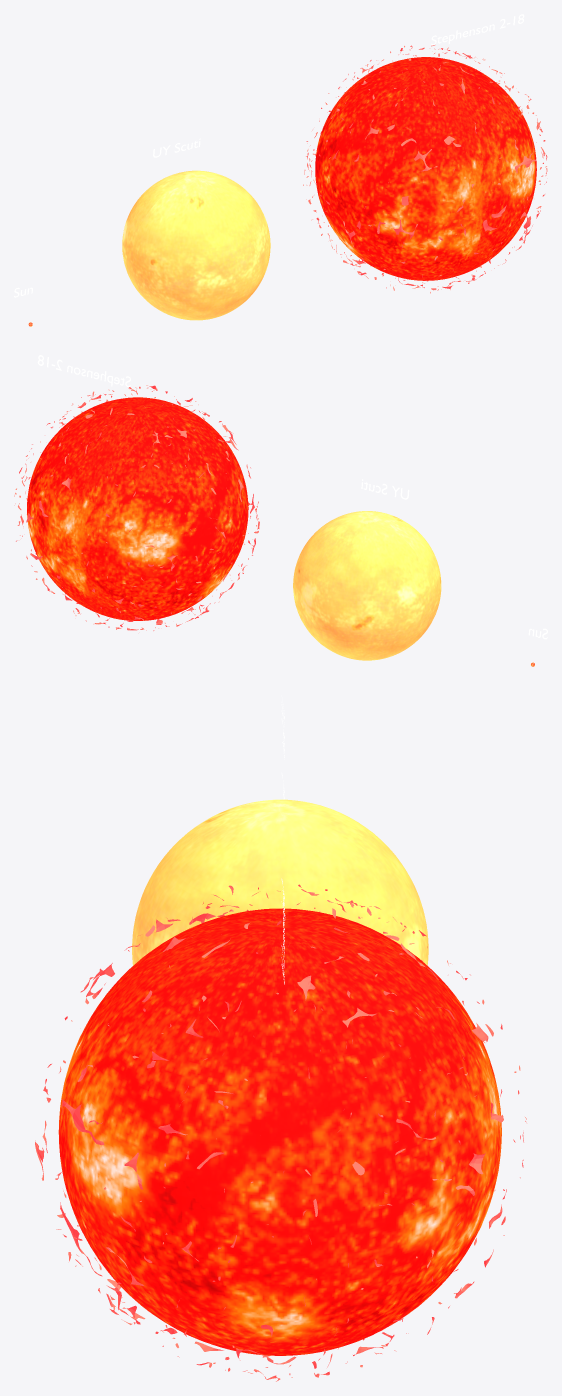
The picture shows the model from 3 angles, top to bottom: view 1: azimuth 30°, elevation 25°; view 2: azimuth 150°, elevation 25°; view 3: azimuth 270°, elevation 25°; orthographic projection. The views are drawn at different scales.
Visible parts, largest first — view 1: Stephenson 2-18.001, Uy Scuti, stephenson effect, TEXT STEPHENSON; view 2: Stephenson 2-18.001, Uy Scuti, stephenson effect, TEXT STEPHENSON; view 3: Stephenson 2-18.001, Uy Scuti, stephenson effect.
Boxes of the visible parts, x1,y1,x2,y2 form: Stephenson 2-18.001: [315, 57, 536, 280]; Uy Scuti: [122, 170, 270, 320]; stephenson effect: [303, 45, 547, 293]; TEXT STEPHENSON: [431, 14, 524, 45]; Stephenson 2-18.001: [27, 397, 248, 620]; Uy Scuti: [293, 511, 441, 660]; stephenson effect: [14, 385, 259, 630]; TEXT STEPHENSON: [37, 355, 130, 386]; Stephenson 2-18.001: [58, 908, 501, 1355]; Uy Scuti: [132, 799, 428, 965]; stephenson effect: [35, 884, 526, 1381].
Size of the model in its own units: 215 by 95.81 by 88.25.
